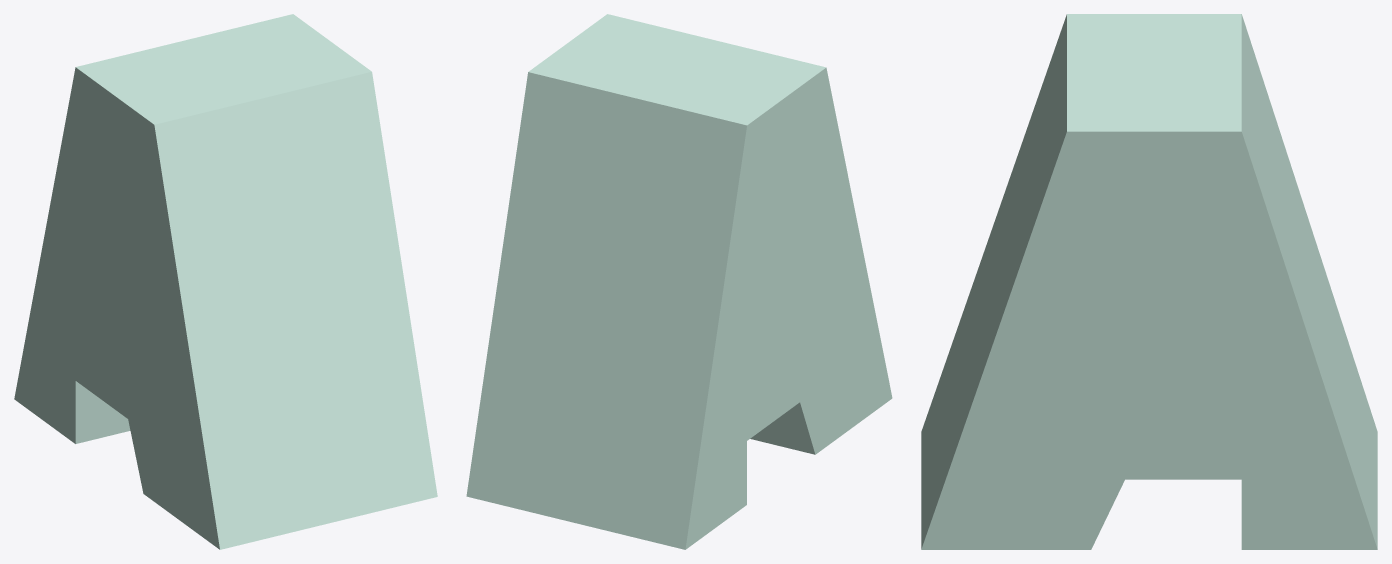
The picture shows the model from 3 angles, left to right: view 1: azimuth 30°, elevation 25°; view 2: azimuth 150°, elevation 25°; view 3: azimuth 270°, elevation 25°; orthographic projection. The views are drawn at different scales.
Visible parts, largest first — view 1: Renderer Node; view 2: Renderer Node; view 3: Renderer Node.
Part boxes in pixels (<box>): Renderer Node: <box>14,14,437,549</box>; Renderer Node: <box>466,14,892,549</box>; Renderer Node: <box>921,14,1377,549</box>.
Size of the model in its own units: 0.4531 by 0.75 by 0.7421.
